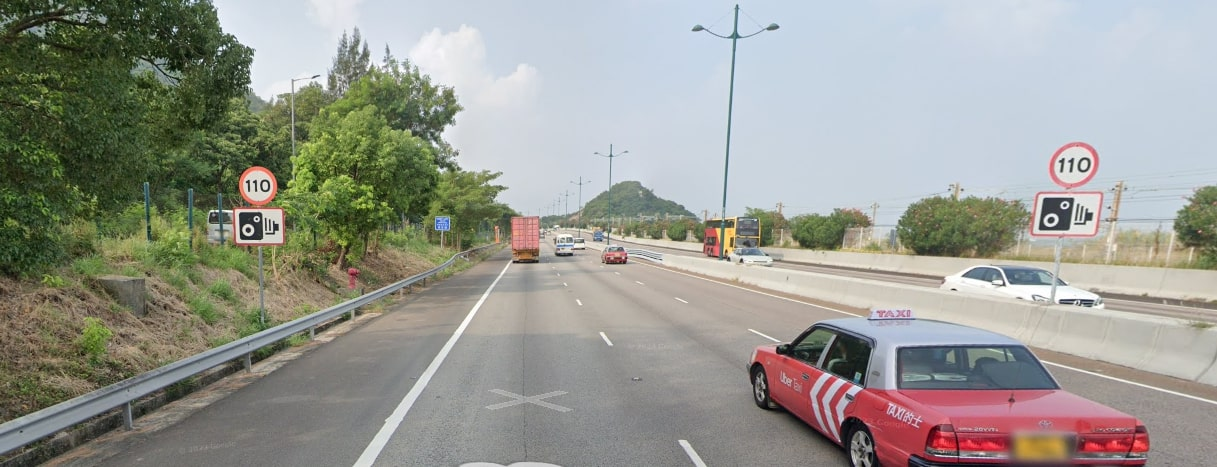Speed Limit: (1045, 139, 1101, 186), (231, 166, 280, 205)
